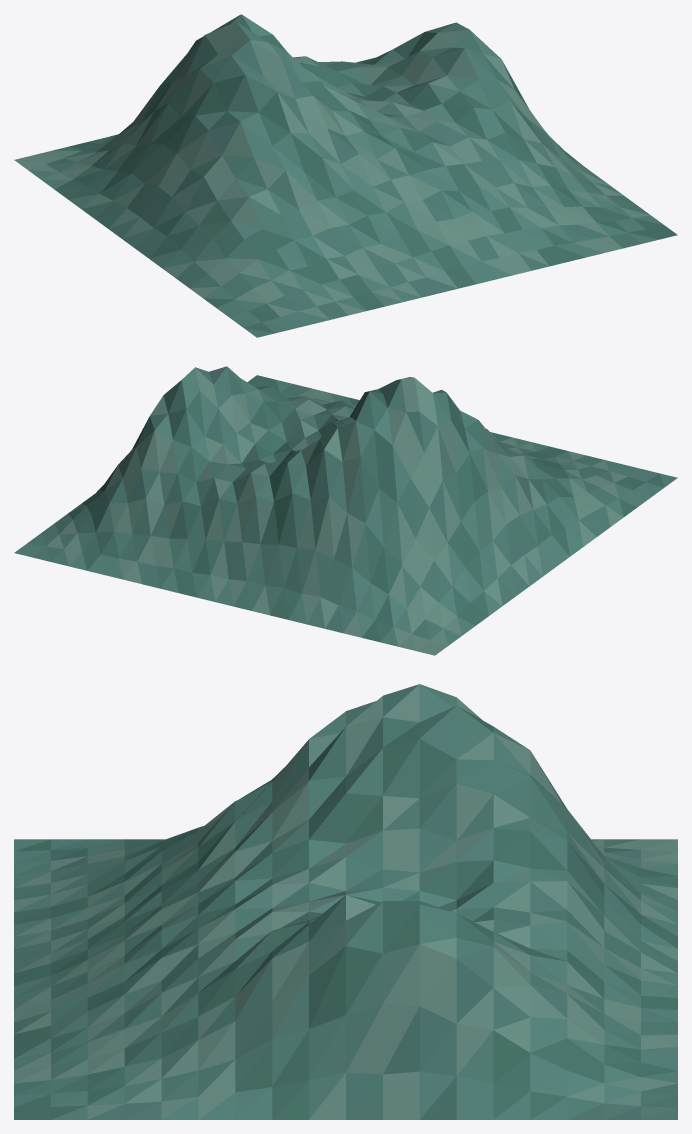
The model's file is midMountainB.glb.
The picture shows the model from 3 angles, top to bottom: view 1: azimuth 30°, elevation 25°; view 2: azimuth 150°, elevation 25°; view 3: azimuth 270°, elevation 25°; orthographic projection. The views are drawn at different scales.
Visible parts, largest first — view 1: MountainMesh.005; view 2: MountainMesh.005; view 3: MountainMesh.005.
Boxes of the visible parts, box(x1,y1,x2,y2) form: MountainMesh.005: box(14, 14, 677, 337); MountainMesh.005: box(14, 366, 677, 655); MountainMesh.005: box(14, 684, 677, 1119).
Bounding box in the file's own units: 2 × 0.8 × 2.
